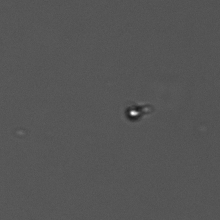Living Cell: (125, 104, 143, 120)
